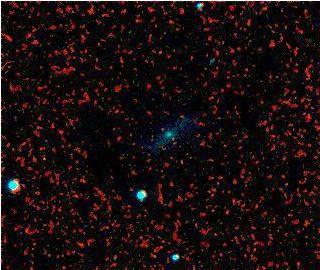star: (61, 229, 91, 259)
